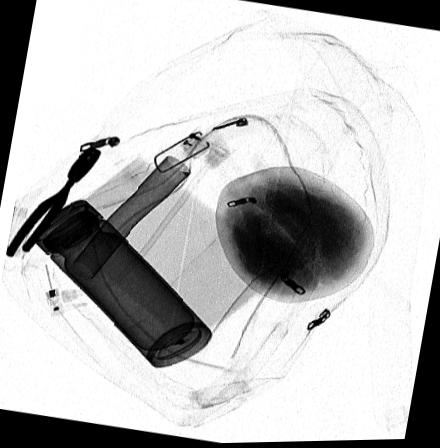Pliers: (2, 143, 104, 258)
